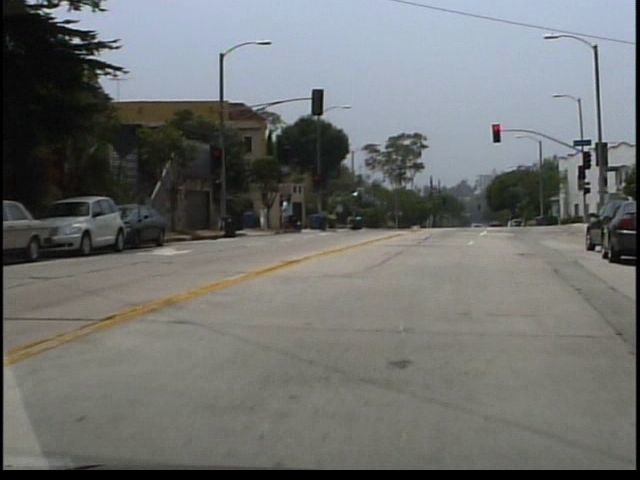person: (283, 198, 297, 236), (265, 202, 274, 234)
